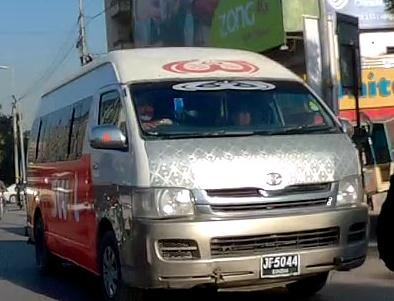car: (20, 45, 367, 296)
